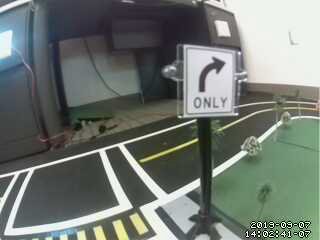Right_only_sign: (184, 46, 235, 114)
